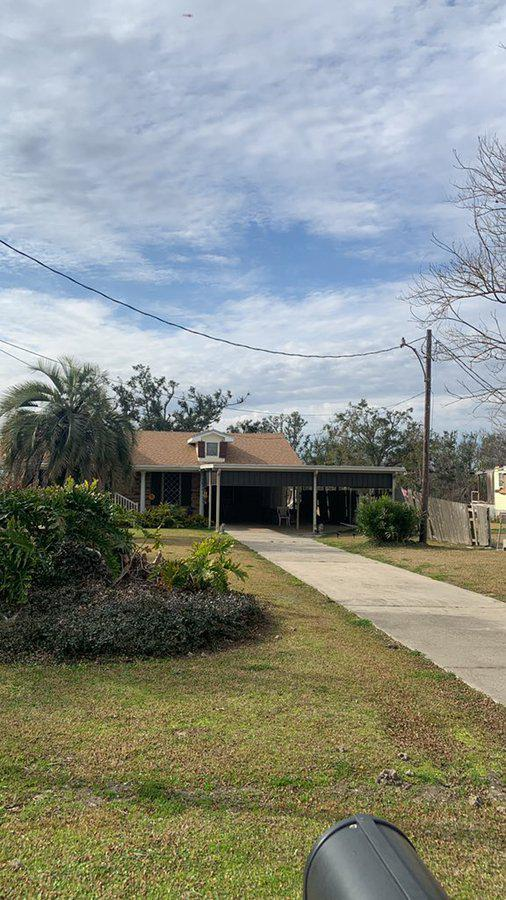affected: (62, 400, 420, 553)
